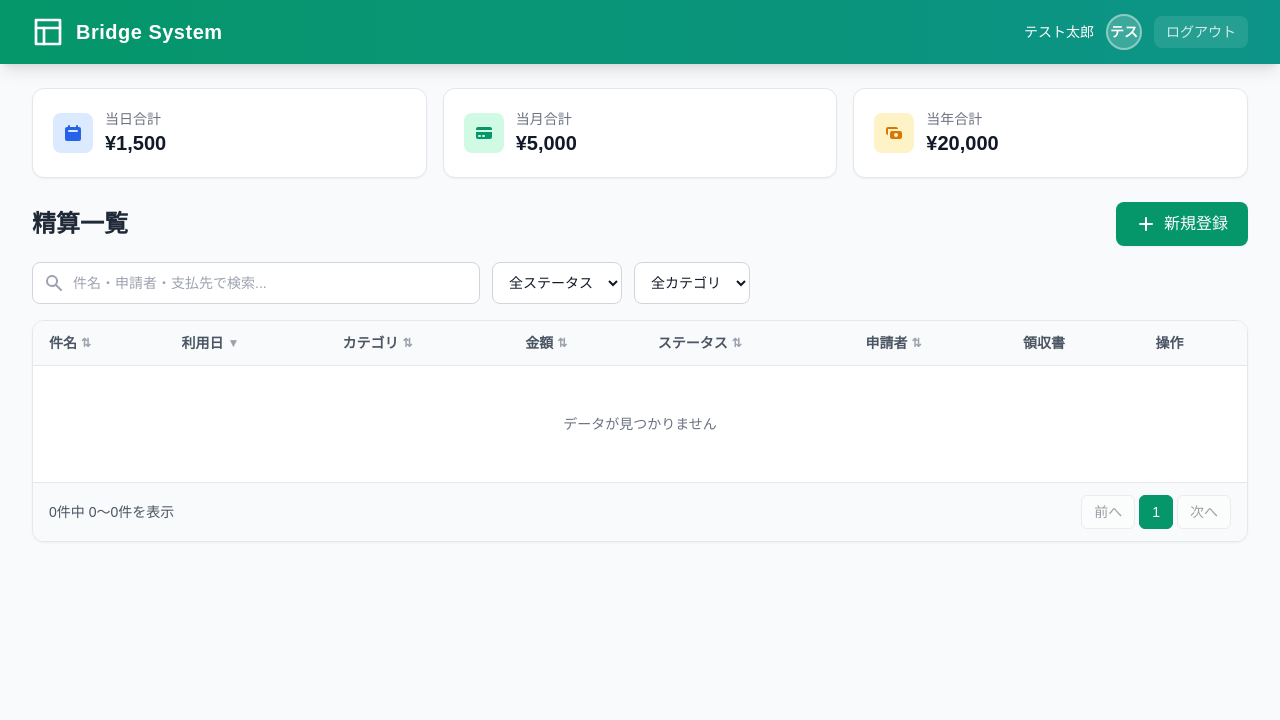
Test case: ExpenseList › 新規登録モーダル › 必須項目未入力で登録するとバリデーションエラーが表示される
Click the button "新規登録": (1182,224) [1116, 202, 1248, 246]
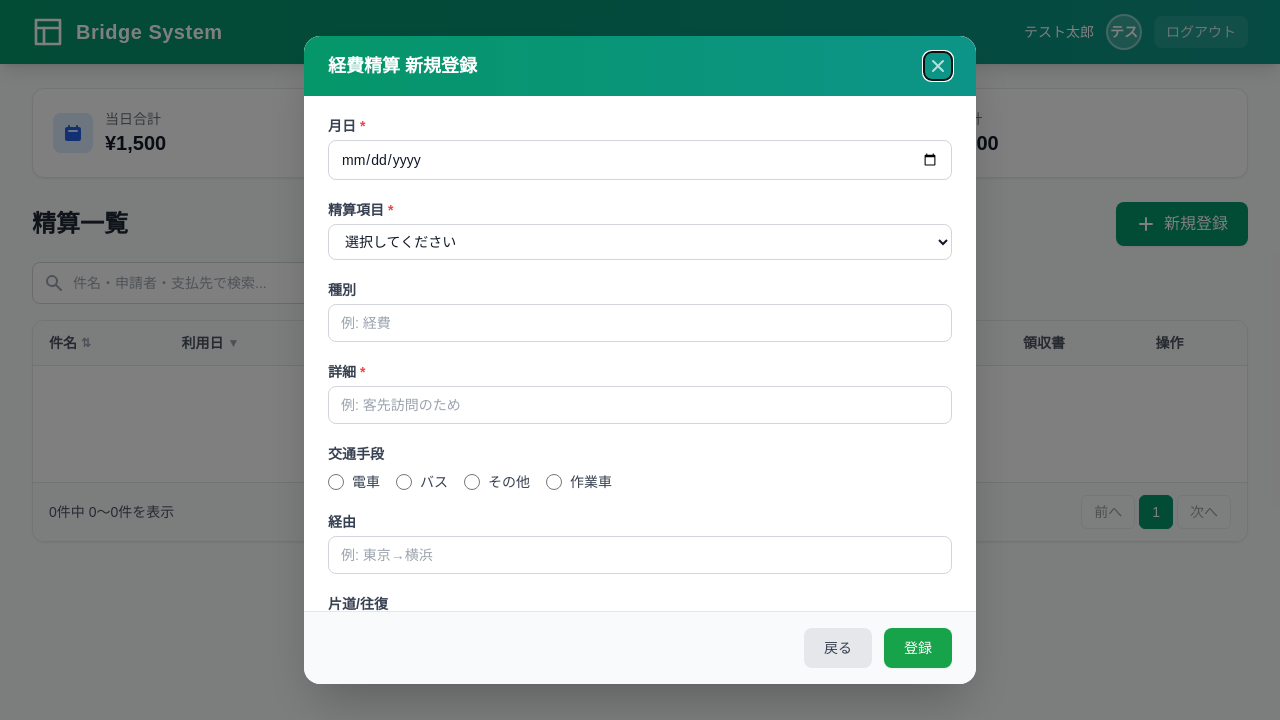
Click the button "登録": (918,648) [884, 628, 952, 668]
(page scrolled)
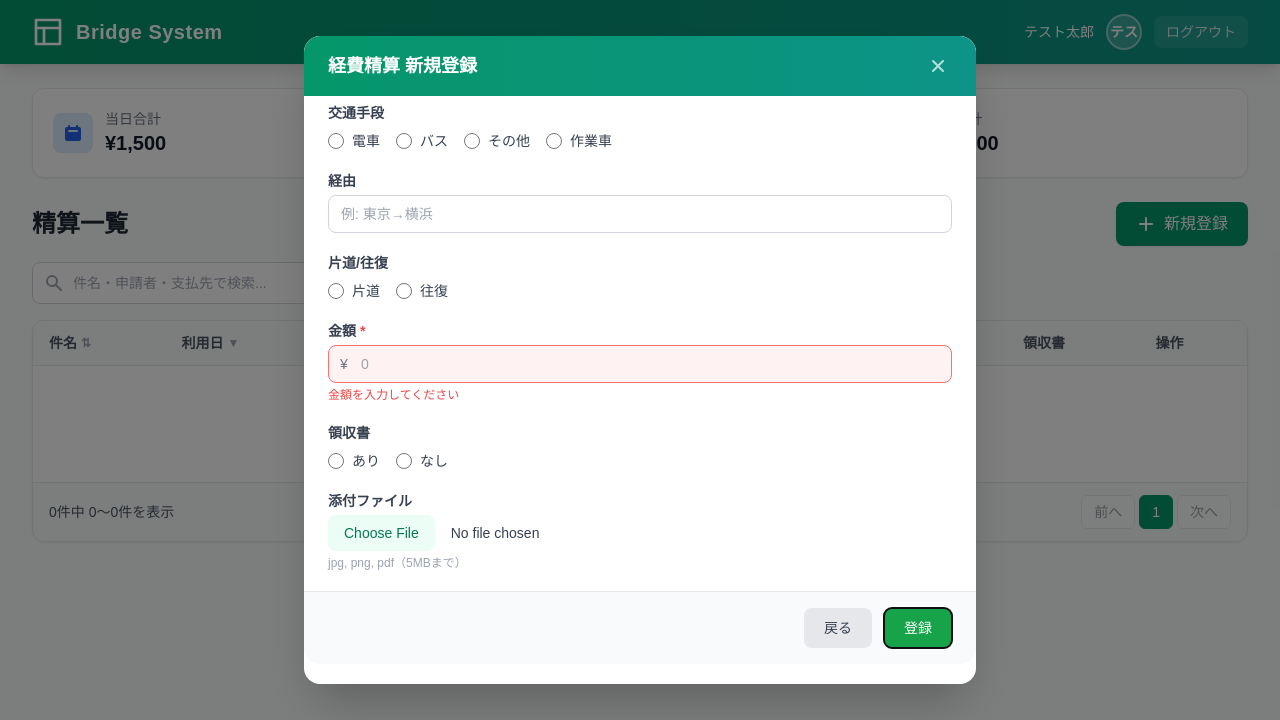
Expected: the text "詳細を入力してください" is shown, [328, 68, 459, 82]
Expected: the text "金額を入力してください" is shown, [328, 388, 459, 402]
